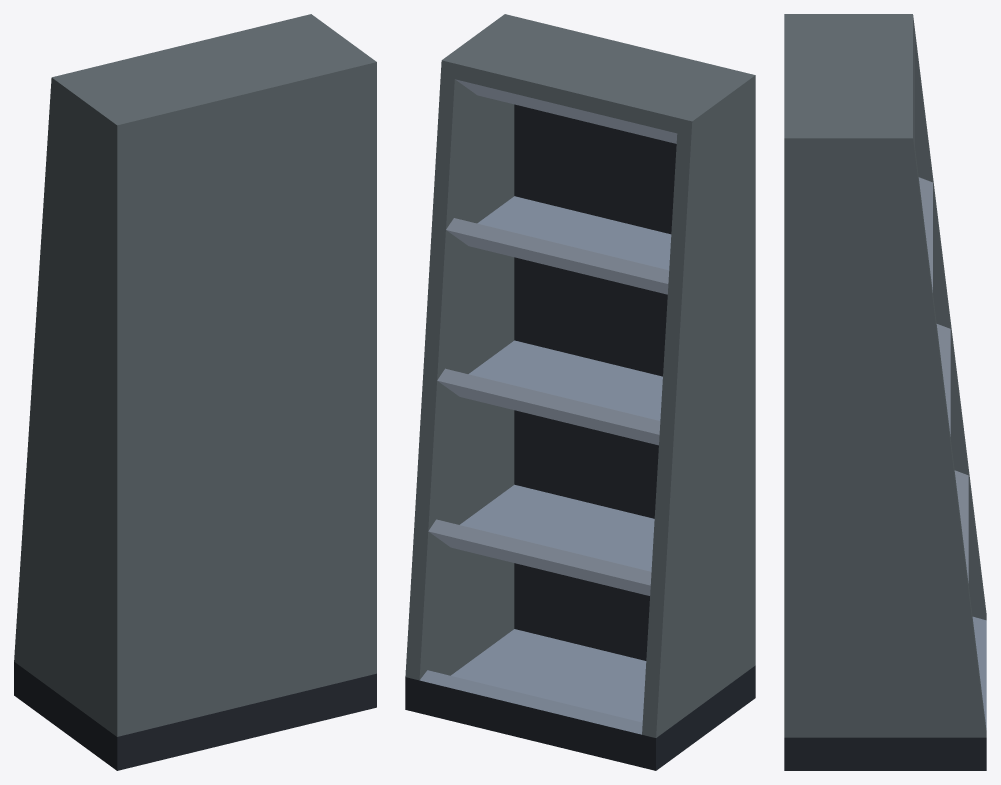
The model's file is g_o_Storage_Hoses.fbx.
3 views of the same model, side by side, from view 1: azimuth 30°, elevation 25°; view 2: azimuth 150°, elevation 25°; view 3: azimuth 270°, elevation 25° (orthographic). The views are drawn at different scales.
Parts seen in each view (by area): view 1: g_o_Storage_Hoses; view 2: g_o_Storage_Hoses; view 3: g_o_Storage_Hoses.
Part boxes in pixels (left/top/right/bottom): g_o_Storage_Hoses: left=14, top=14, right=376, bottom=770; g_o_Storage_Hoses: left=405, top=14, right=755, bottom=770; g_o_Storage_Hoses: left=784, top=14, right=986, bottom=770.
Bounding box in the file's own units: 0.8 × 1.9 × 0.55.
